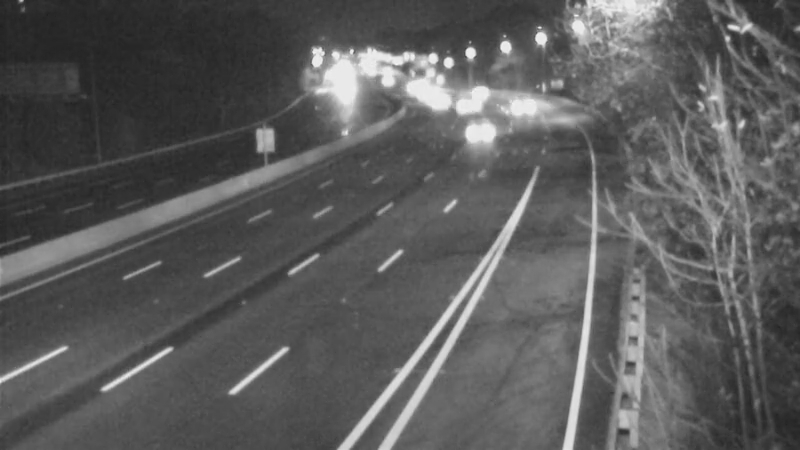vehicle: (459, 64, 509, 114), (441, 78, 491, 128), (486, 77, 536, 127), (442, 107, 492, 157)
